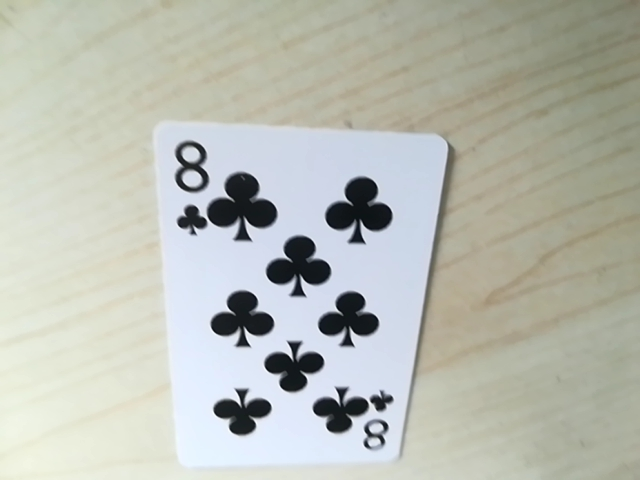mh 8: (161, 130, 221, 239), (354, 393, 398, 460)
